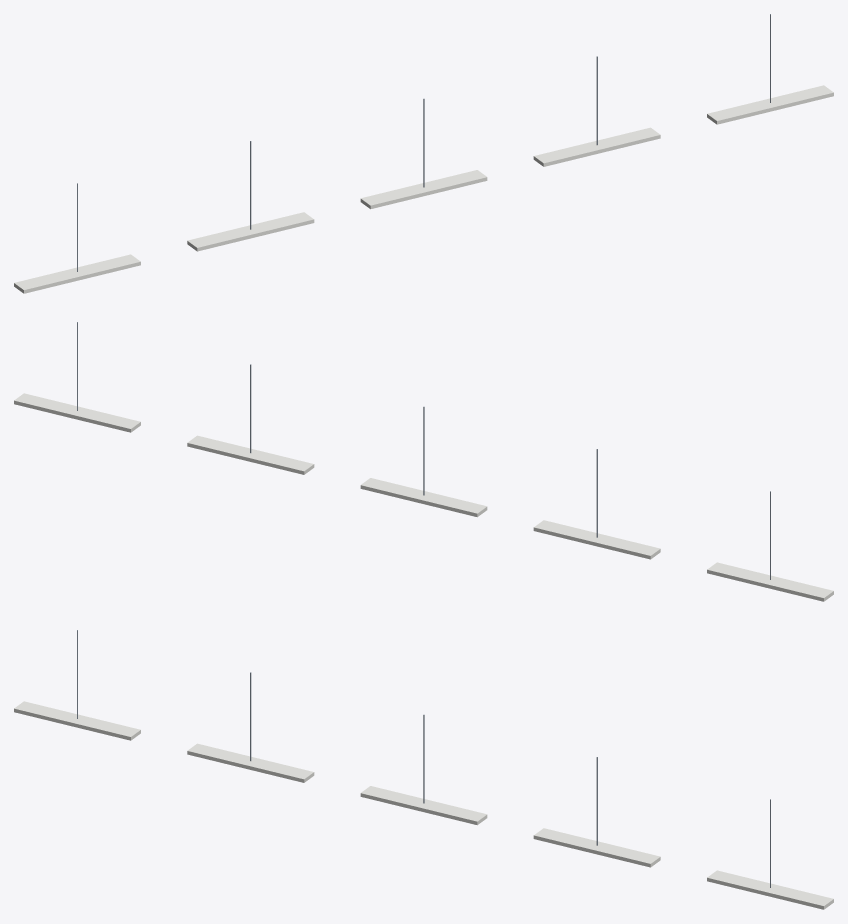
Rendered from ceiling-light-wide.glb.
3 renders of one model, top to bottom at view 1: azimuth 30°, elevation 25°; view 2: azimuth 150°, elevation 25°; view 3: azimuth 330°, elevation 25°, orthographic.
Parts seen in each view (by area): view 1: ceiling-light-wide; view 2: ceiling-light-wide; view 3: ceiling-light-wide.
Boxes of the visible parts, left/top/right/bottom form: ceiling-light-wide: left=14, top=14, right=833, bottom=293; ceiling-light-wide: left=14, top=322, right=833, bottom=601; ceiling-light-wide: left=14, top=630, right=833, bottom=909.
Bounding box in the file's own units: 37.4 × 4.13 × 0.8.
